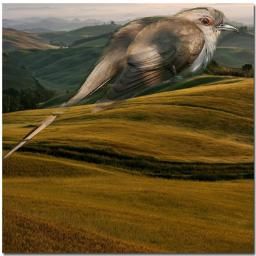Cuckoo: (2, 6, 241, 161)
